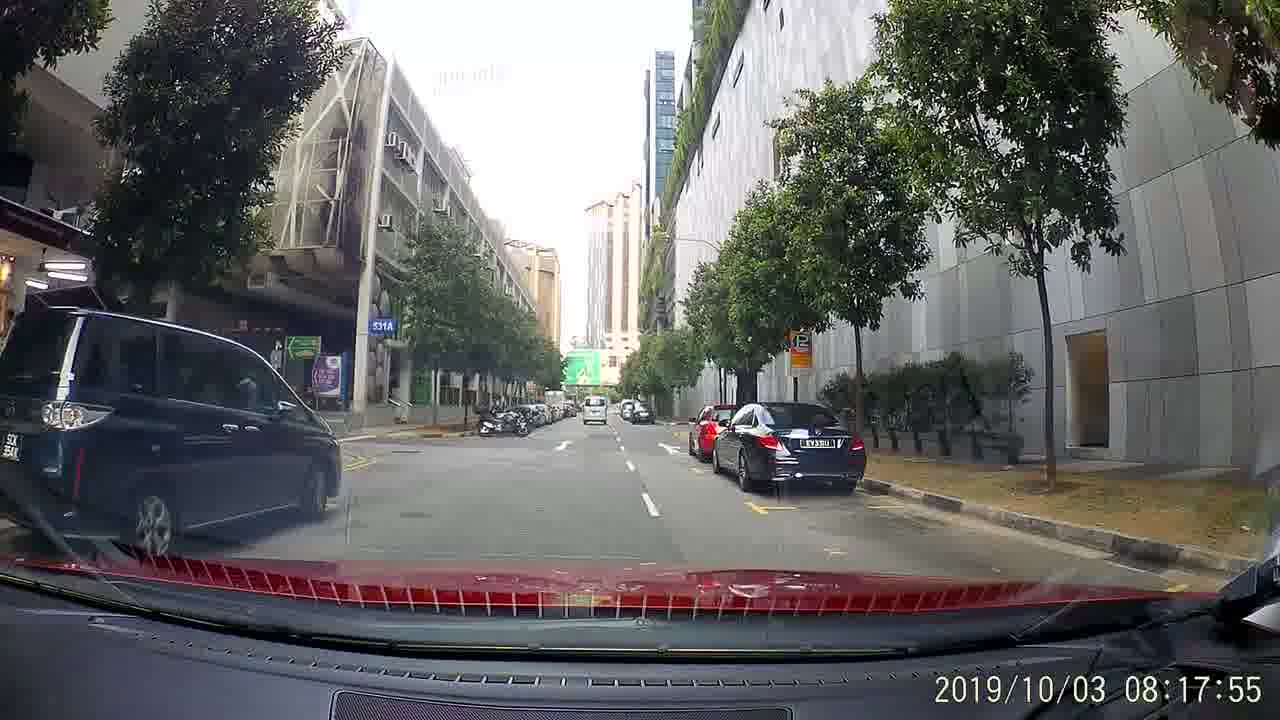car: (4, 301, 343, 552), (711, 395, 868, 496), (691, 407, 753, 457), (628, 405, 656, 427)
